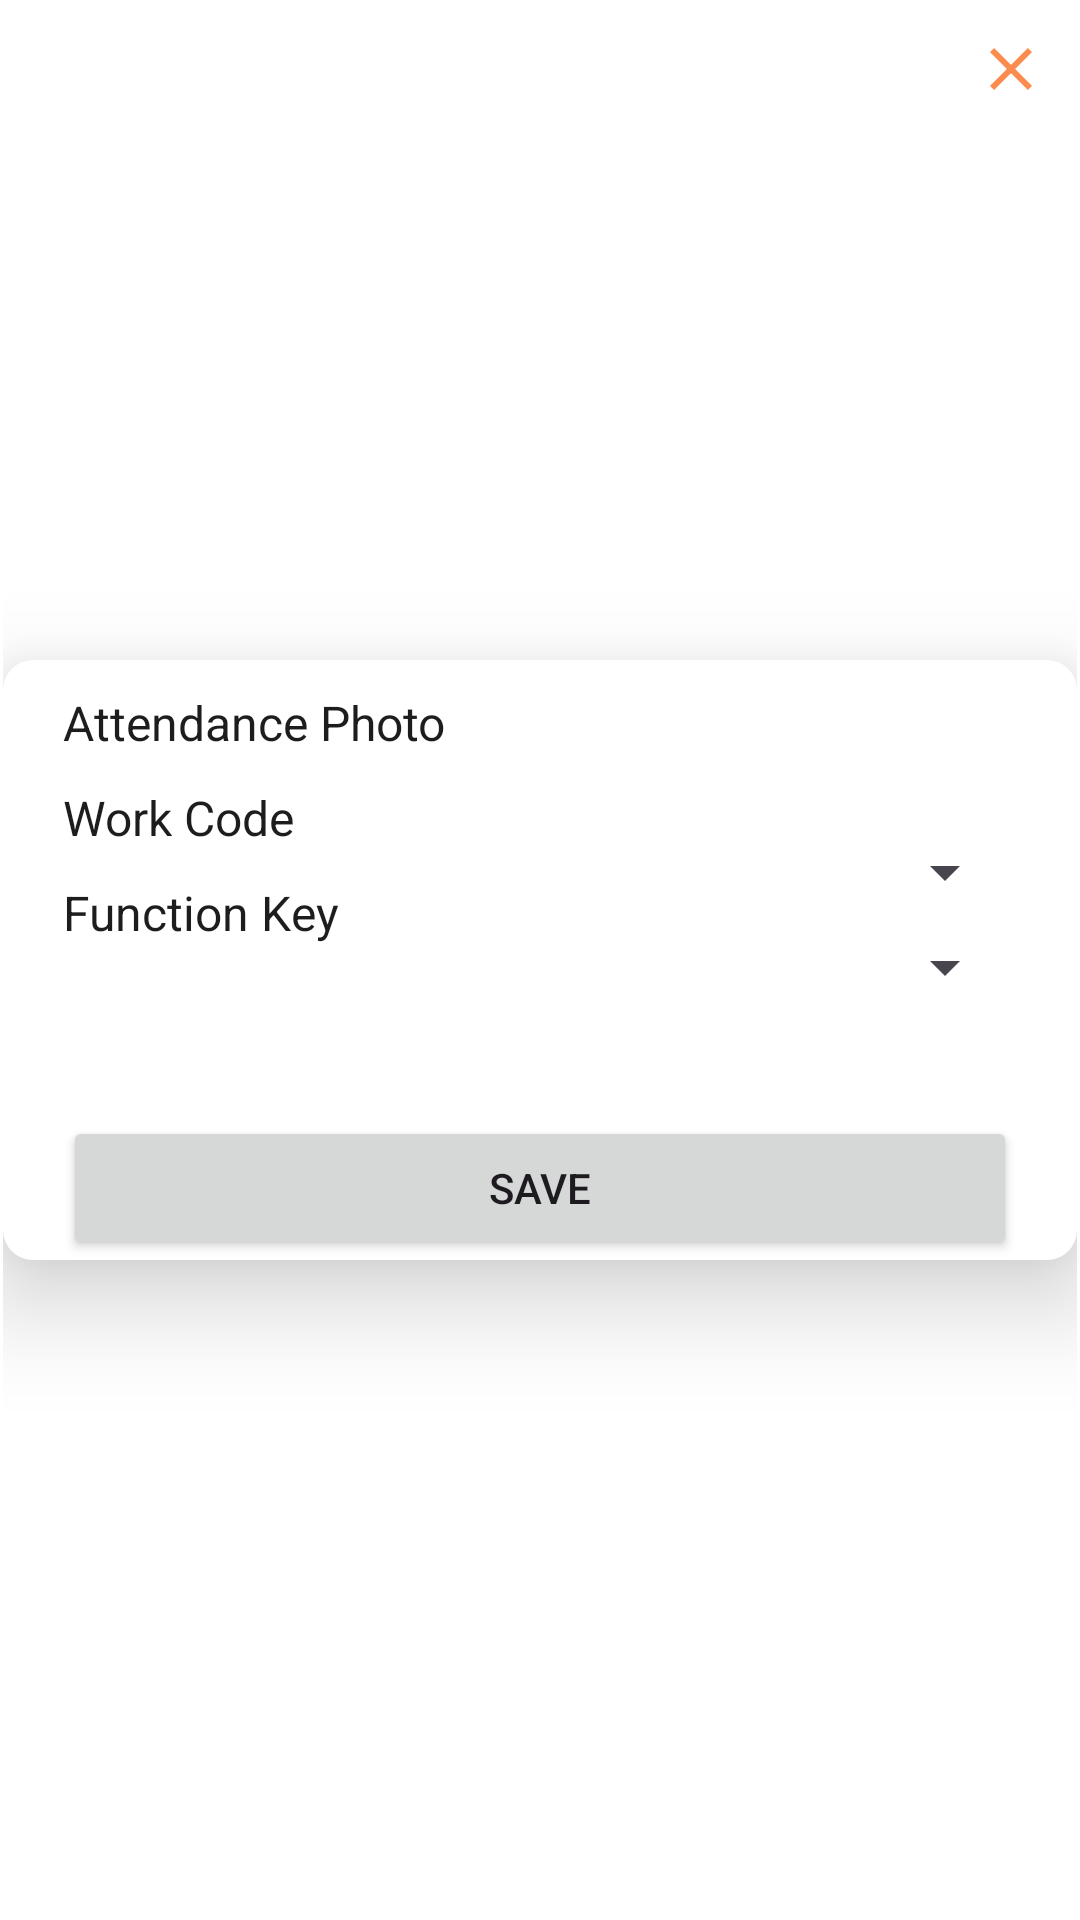

Icons on this 1080px x 1920px Android screen, each with the point to tap as point (x, y):
close: point (1011, 69)
